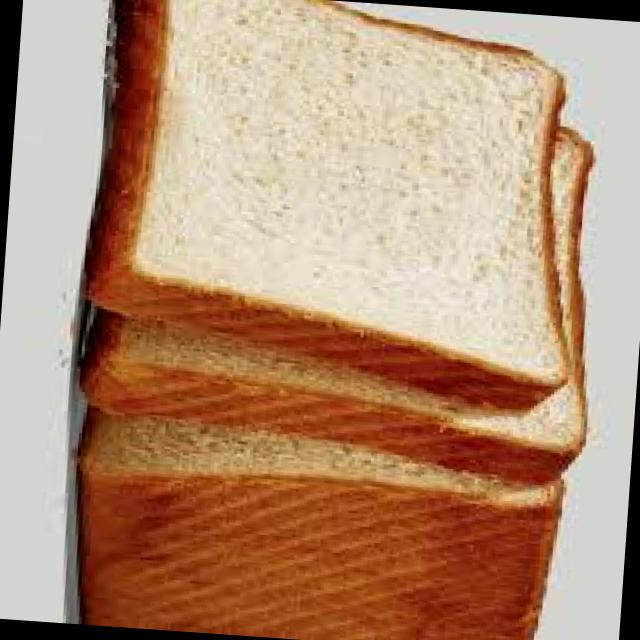organic: (54, 0, 614, 640)
